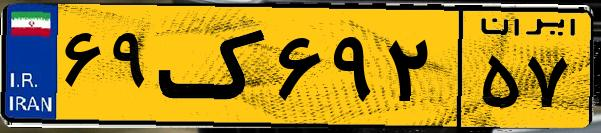2: (385, 28, 445, 110)
5: (475, 38, 525, 113)
6: (270, 28, 330, 110), (57, 26, 110, 100)
7: (525, 38, 570, 115)
9: (330, 28, 385, 110), (110, 28, 158, 98)
ک: (158, 12, 270, 120)
